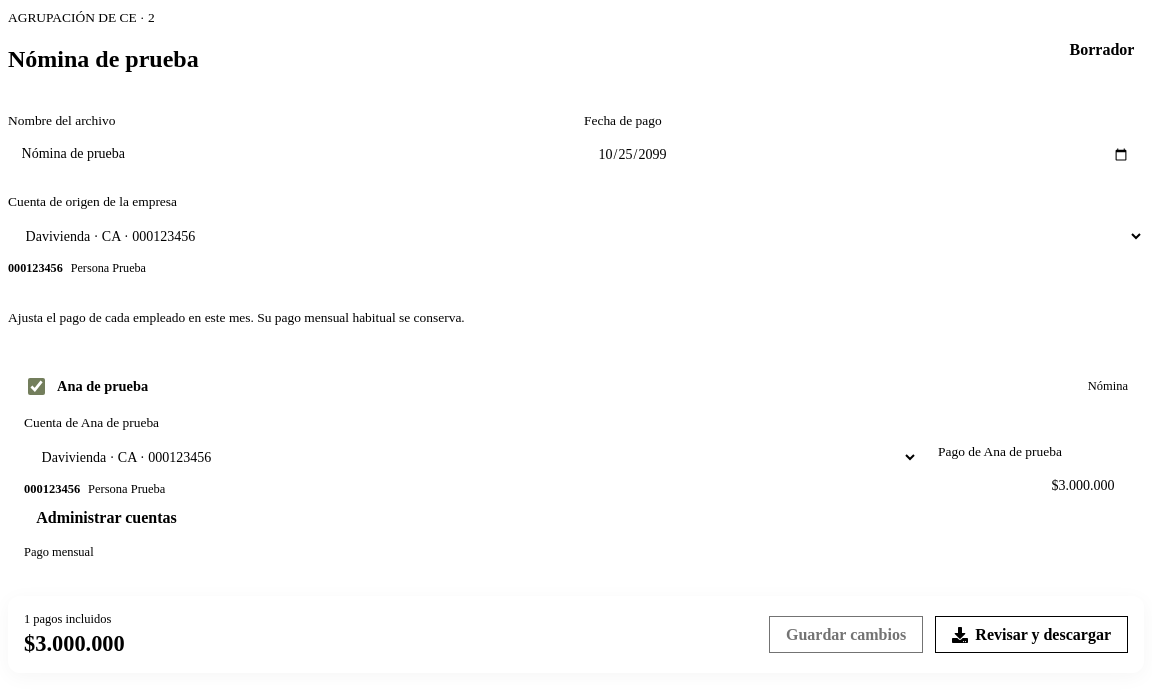
Test case: Preparación bancaria › guarda el importe escrito sin blur y bloquea descargar mientras hay cambios
Replace the text in the field labelled "Pago de Ana de prueba" with "3.250.000" at (1033, 486), box [938,468,1128,504]
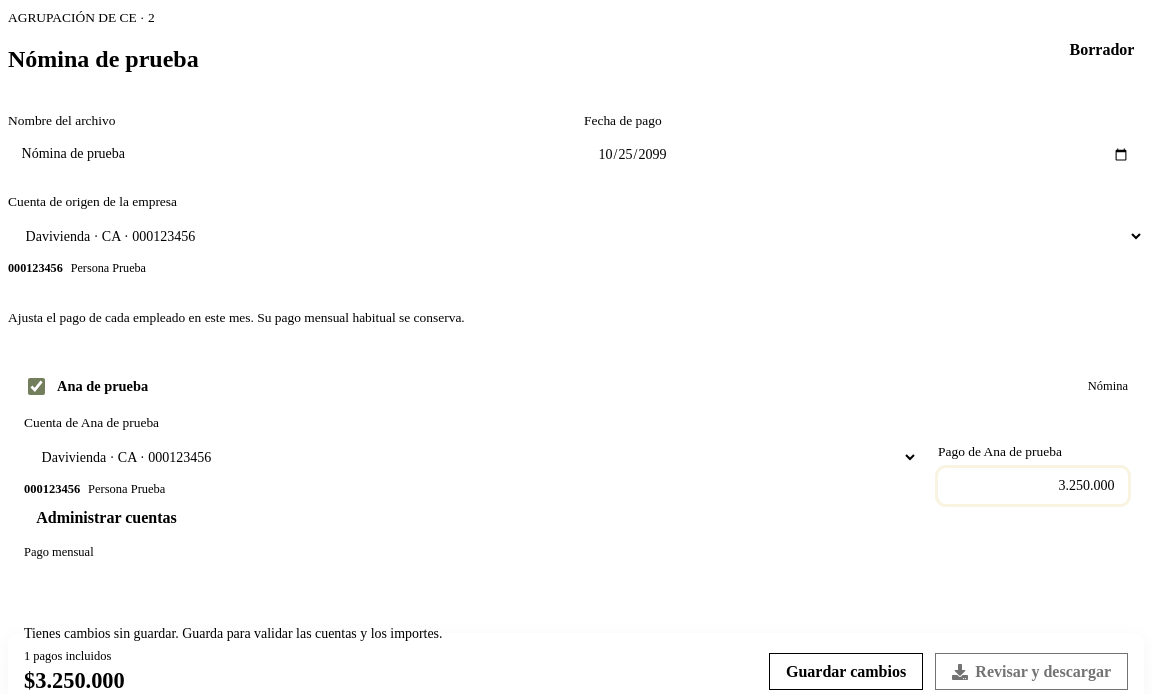
Result: the button "Revisar y descargar" is disabled at [935,653,1128,690]
Click the button "Guardar cambios".
click(846, 672)  # box [769,653,923,690]
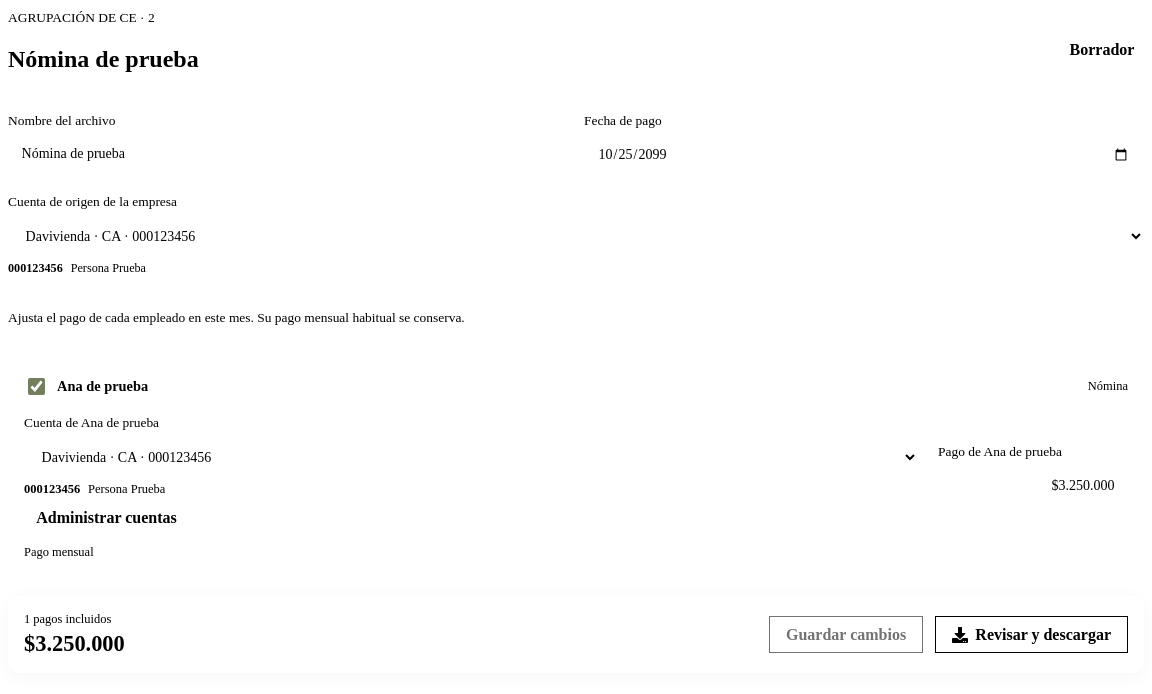
Result: the field labelled "Pago de Ana de prueba" holds "$3.250.000" at [938,468,1128,504]
